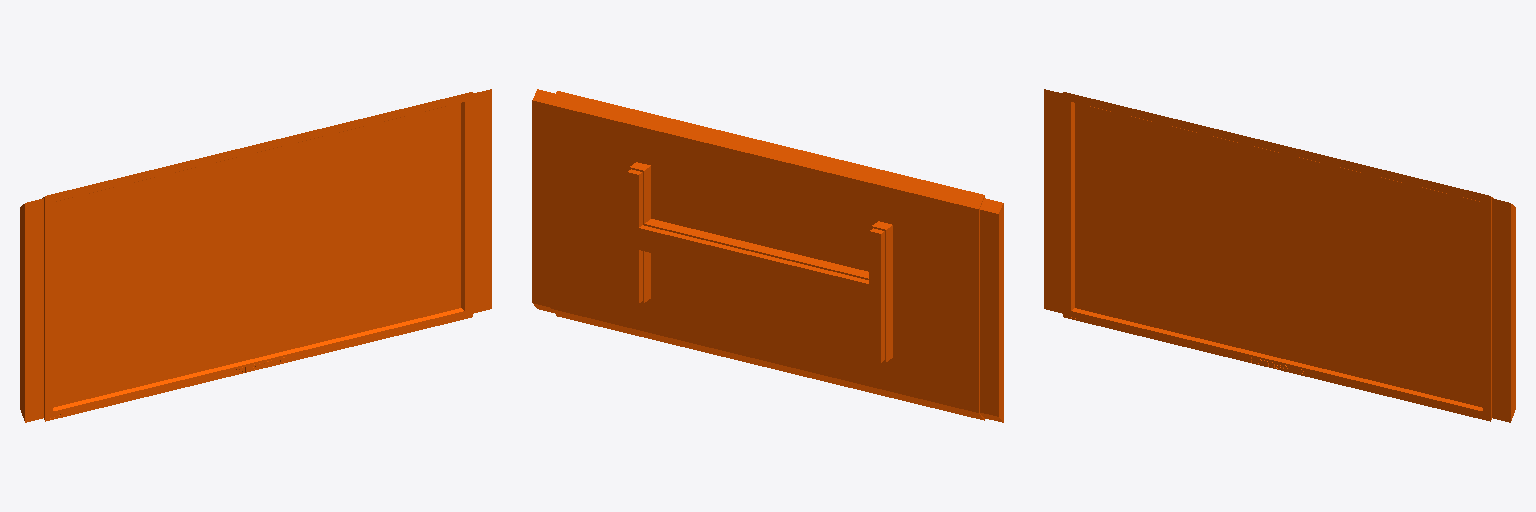
The robot description file, URDF, robot "TV_7bd5744863ce58c9901fed29c825c894":
<?xml version="1.0" ?>
<robot name="TV_7bd5744863ce58c9901fed29c825c894">
   <material name="obj_color">
      <color rgba="1.0 0.423529411765 0.0392156862745 1.0"/>
   </material>
   <link name="top">
      <inertial>
         <origin rpy="0.0003477355113459535 0.001733667608410742 0.002066624139880568" xyz="0.0004672286639687633 0.001926077541959835 0.003053772839932582"/>
         <mass value="0.3697304078881357"/>
         <inertia ixx="0.0003477355115527302" ixy="-1.875177985405033e-08" ixz="-1.745355453433838e-09" iyy="0.002066623675598477" iyz="-3.930870667564423e-07" izz="0.001733668072486056"/>
      </inertial>
      <visual>
         <origin rpy="0 0 0" xyz="0 0 0"/>
         <geometry>
            <mesh filename="top_watertight_tiny.stl" scale="1 1 1"/>
         </geometry>
         <material name="obj_color"/>
      </visual>
      <collision>
         <origin rpy="0 0 0" xyz="0 0 0"/>
         <geometry>
            <mesh filename="top_watertight_tiny.obj" scale="1 1 1"/>
         </geometry>
      </collision>
   </link>
   <link name="bottom">
      <inertial>
         <origin rpy="1.633333333199431e-08 1.633333333199431e-08 1.633333333362855e-08" xyz="0.3464080000000008 0.3464080000000008 0.3464080000000008"/>
         <mass value="0.0009800000000000017"/>
         <inertia ixx="1.633333333253906e-08" ixy="5.447480642029219e-19" ixz="5.447480642029219e-19" iyy="1.633333333253906e-08" iyz="5.447480642029219e-19" izz="1.633333333253906e-08"/>
      </inertial>
      <visual>
         <origin rpy="0 0 0" xyz="0 0 0"/>
         <geometry>
            <mesh filename="bottom_watertight_tiny.stl" scale="1 1 1"/>
         </geometry>
         <material name="obj_color"/>
      </visual>
   </link>
   <joint name="rotation" type="revolute">
      <origin xyz="0 0 0"/>
      <axis xyz="0 0 -1"/>
      <parent link="bottom"/>
      <child link="top"/>
      <dynamics damping="1.0" friction="1.0"/>
      <limit effort="0.1" velocity="0.1" lower="0" upper="0.001"/>
   </joint>
</robot>

--- Render facts (derived) ---
3 views of the same robot in one strip: view 1: azimuth 30°, elevation 25°; view 2: azimuth 150°, elevation 25°; view 3: azimuth 330°, elevation 25° (orthographic).
Model TV_7bd5744863ce58c9901fed29c825c894 with 2 links and 1 joints (1 revolute), rooted at bottom, posed every joint at zero.
Links seen in each view (by area): view 1: top; view 2: top; view 3: top.
Link boxes in pixels (x1,y1,x2,y2): top: [20, 89, 491, 422]; top: [532, 89, 1003, 422]; top: [1044, 89, 1515, 422].
Bounding box of the posed robot: 0.2634 × 0.0168 × 0.1219 m (x, y, z).
Meshes: 2 distinct files referenced, 1 mesh visuals loaded (1 binary STL); not drawn: 1 (reference not matched to a file when rendering).
